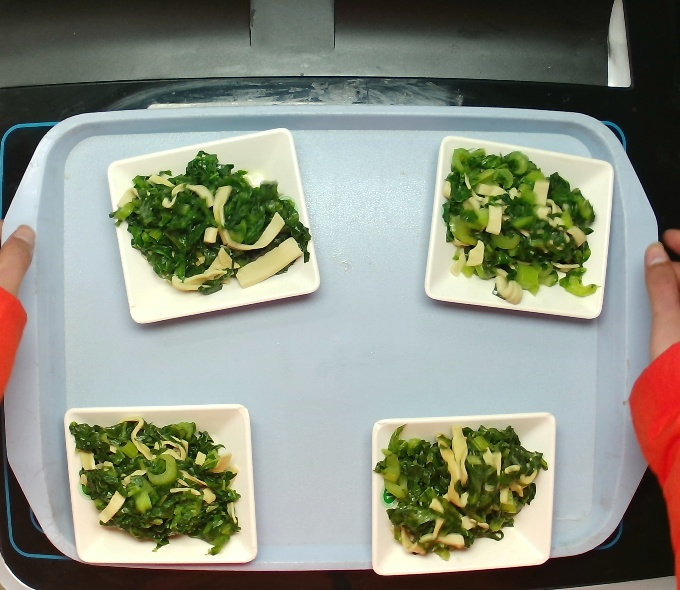wcq-QingCaiChaoQianZhang: (418, 133, 617, 315), (107, 142, 323, 303), (68, 413, 249, 557), (385, 424, 538, 554)
